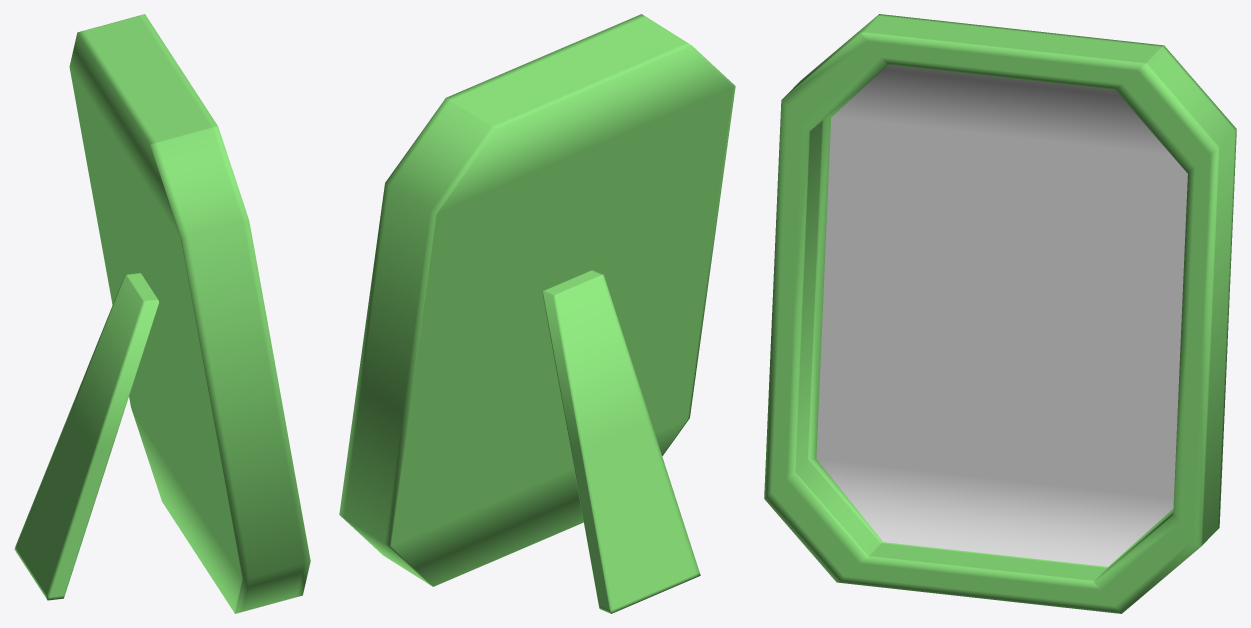
Rendered from Picture frame_03.fbx.
3 renders of one model, left to right at view 1: azimuth 30°, elevation 25°; view 2: azimuth 150°, elevation 25°; view 3: azimuth 270°, elevation 25°, orthographic. The views are drawn at different scales.
Parts seen in each view (by area): view 1: Picture frame.003; view 2: Picture frame.003; view 3: Picture frame.003.
Boxes of the visible parts, bbox=[...] form: Picture frame.003: bbox=[14, 14, 310, 613]; Picture frame.003: bbox=[339, 14, 735, 613]; Picture frame.003: bbox=[764, 14, 1236, 613].
Size of the model in its own units: 13.13 by 24.14 by 19.81.
